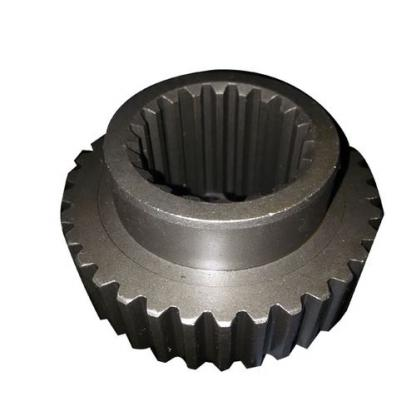FOD: (56, 66, 388, 377)
